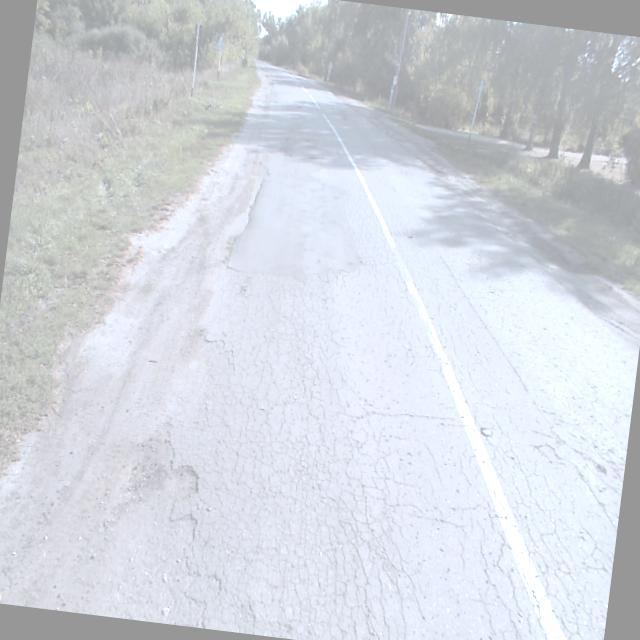road: (70, 58, 638, 640)
